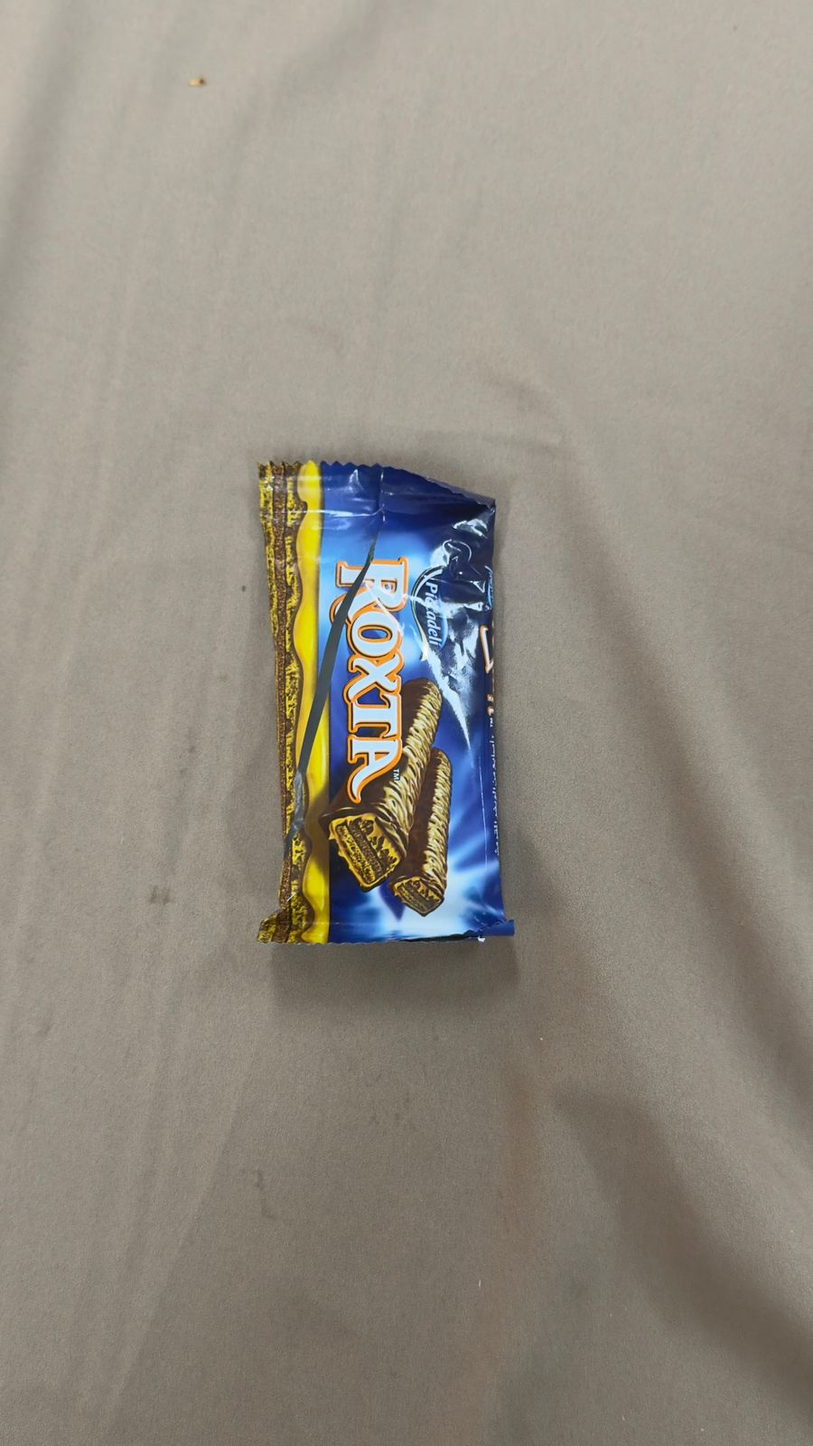plastic: (81, 312, 732, 1446)
